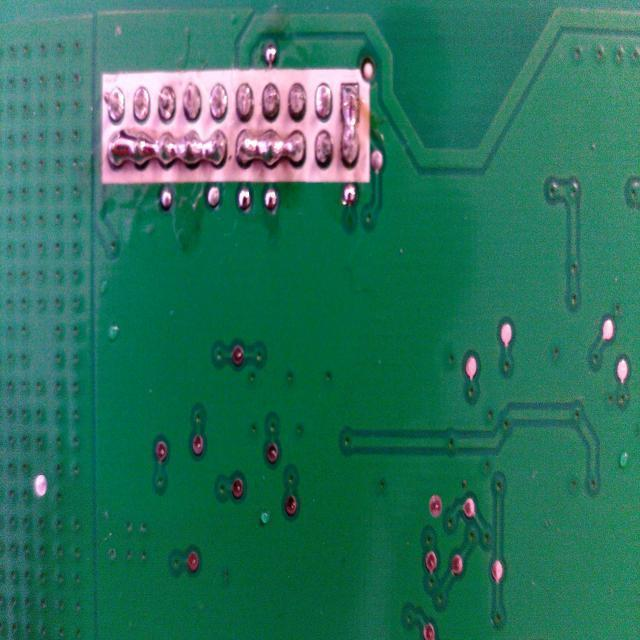Soldering shorted: (104, 125, 228, 184), (234, 125, 314, 177), (338, 76, 360, 173)
